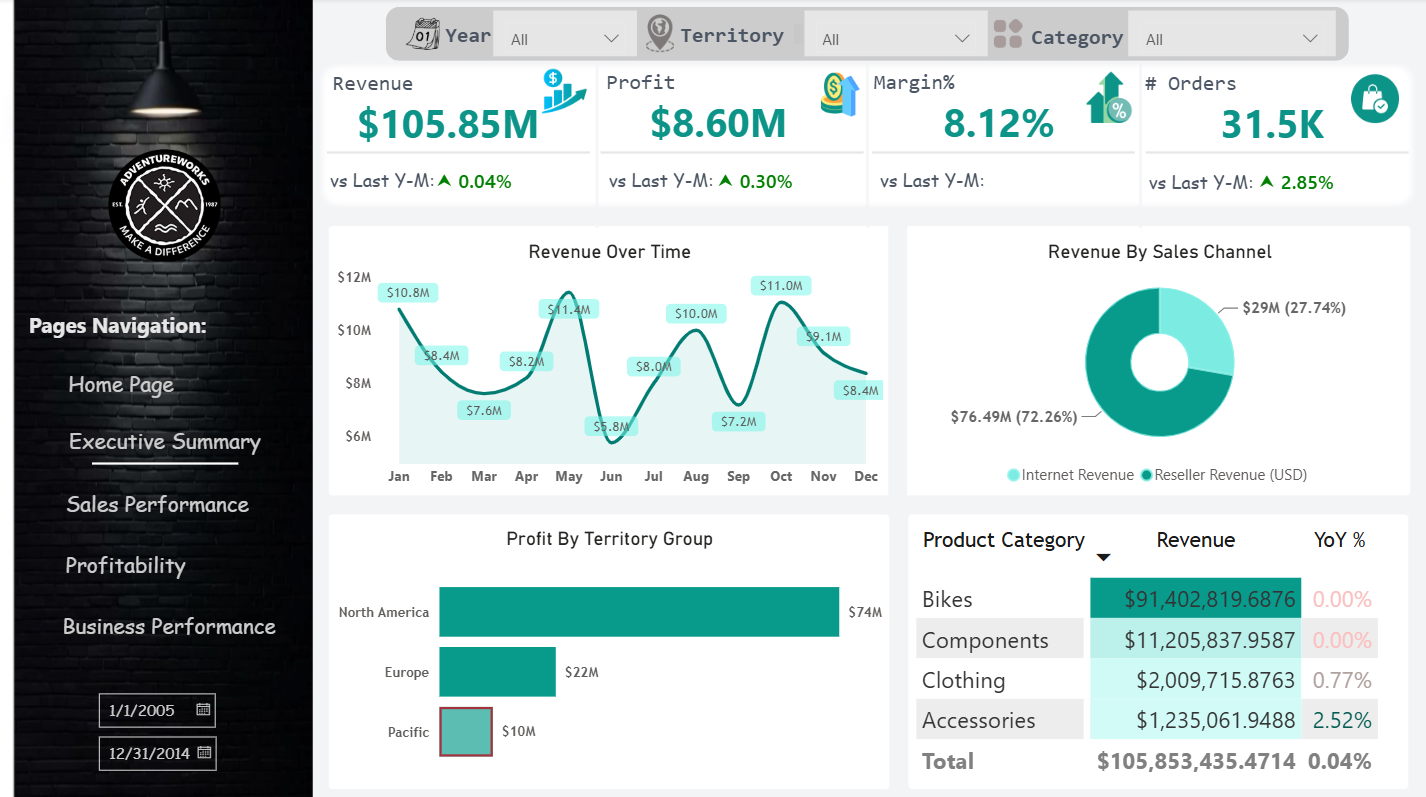

Layout of this report page (visuals, bound fields, positions):
{"tool":"powerbi","page":{"name":"Executive Overview","canvas":[1280,720],"ordinal":1},"visuals":[{"type":"cardVisual","fields":{"Data":["_Measures.Total Revenue"]},"box":[295.6,65.1,223.2,88.1],"z":0},{"type":"textbox","box":[298,60.3,105,45.8],"z":1000},{"type":"cardVisual","fields":{"Data":["_Measures.Gross Profit"]},"box":[556.2,72.4,211.1,71.2],"z":2000},{"type":"textbox","box":[295.6,146,119.4,35],"z":3000},{"type":"textbox","box":[1021.9,60.3,232.8,45.8],"z":4000},{"type":"textbox","box":[780.6,59.1,154.4,45.8],"z":5000},{"type":"textbox","box":[541.7,59.1,105,45.8],"z":6000},{"type":"shape","box":[298,129.3,234,16.9],"z":7000},{"type":"shape","box":[541.7,129.3,234,16.9],"z":8000},{"type":"shape","box":[784.2,129.3,234,16.9],"z":9000},{"type":"shape","box":[1027.9,129.3,234,16.9],"z":10000},{"type":"textbox","box":[544.1,138.7,119.4,45.8],"z":11000},{"type":"textbox","box":[1025.5,141.2,119.4,45.8],"z":12000},{"type":"textbox","box":[785.4,138.7,119.4,45.8],"z":13000},{"type":"image","box":[476.5,60.3,66.4,45.8],"z":14000},{"type":"image","box":[719,65.1,72.4,41],"z":15000},{"type":"cardVisual","fields":{"Data":["_Measures.Gross Margin %"]},"box":[818,72.4,177.3,71.2],"z":16000},{"type":"image","box":[963.9,65.1,61.5,45.8],"z":17000},{"type":"cardVisual","fields":{"Data":["_Measures.Total Orders"]},"box":[1065.3,73.6,166.5,71.2],"z":18000},{"type":"image","box":[1208.9,60.3,45.8,59.1],"z":19000},{"type":"cardVisual","fields":{"Data":["_Measures.Revenue cf"]},"box":[366.8,129.1,165.3,63.9],"z":20000},{"type":"slicer","fields":{"Values":["DimDate.CalendarYear"]},"box":[998.8,501.2,150,168.6],"z":21000},{"type":"cardVisual","fields":{"Data":["_Measures.Profit cf"]},"box":[616.5,132.7,174.9,57.9],"z":22000},{"type":"cardVisual","fields":{"Data":["_Measures.Orders cf"]},"box":[1098.8,132.6,174.4,58.1],"z":23000},{"type":"cardVisual","fields":{"Data":["_Measures.Total Cost"]},"box":[424.7,258.2,388.5,149.6],"z":24000}]}

Visuals, with their boxes in screenshot pixels (x1, y1, x2, y2), scaled from the page's 1280x720 canvas onto the 1426x797 screenshot:
cardVisual - _Measures.Total Revenue: 329 72 578 170
textbox: 332 67 449 117
cardVisual - _Measures.Gross Profit: 620 80 855 159
textbox: 329 162 462 200
textbox: 1138 67 1398 117
textbox: 870 65 1042 116
textbox: 603 65 720 116
shape: 332 143 593 162
shape: 603 143 864 162
shape: 874 143 1134 162
shape: 1145 143 1406 162
textbox: 606 154 739 204
textbox: 1142 156 1275 207
textbox: 875 154 1008 204
image: 531 67 605 117
image: 801 72 882 117
cardVisual - _Measures.Gross Margin %: 911 80 1109 159
image: 1074 72 1142 123
cardVisual - _Measures.Total Orders: 1187 81 1372 160
image: 1347 67 1398 132
cardVisual - _Measures.Revenue cf: 409 143 593 214
slicer - DimDate.CalendarYear: 1113 555 1280 741
cardVisual - _Measures.Profit cf: 687 147 882 211
cardVisual - _Measures.Orders cf: 1224 147 1418 211
cardVisual - _Measures.Total Cost: 473 286 906 451
